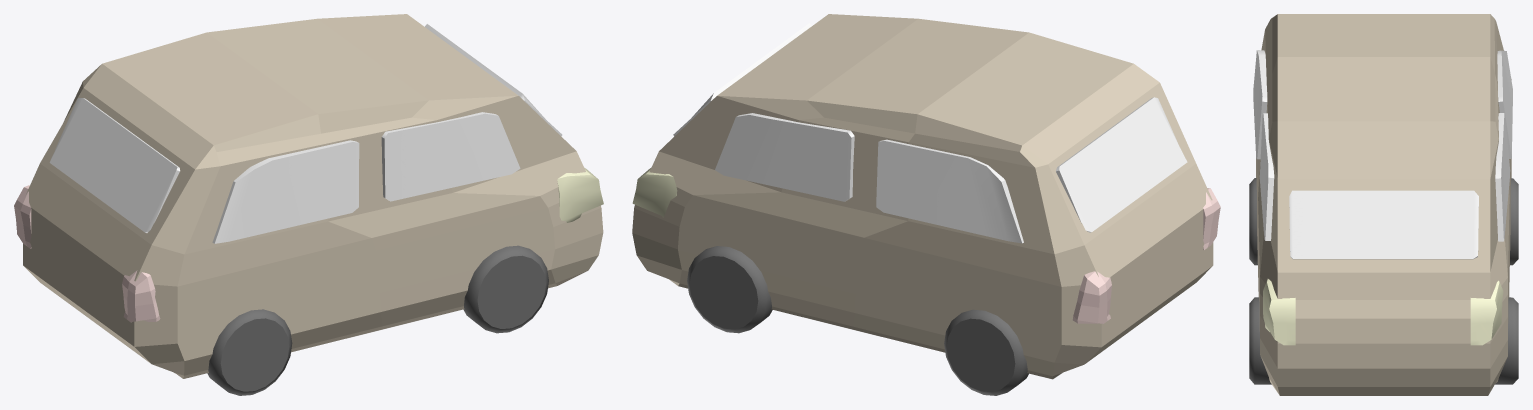
Rendered from CarroVeige.fbx.
The picture shows the model from 3 angles, left to right: view 1: azimuth 30°, elevation 25°; view 2: azimuth 150°, elevation 25°; view 3: azimuth 270°, elevation 25°; orthographic projection. The views are drawn at different scales.
Parts seen in each view (by area): view 1: pCube1, pCube7, pCube10, pCube8, pCylinder1, pCylinder2, pCube11, pCube9, pCube6; view 2: pCube1, pCube4, pCube10, pCube12, pCylinder3, pCylinder4, pCube11, pCube9, pCube6; view 3: pCube1, pCube6, pCube9, pCube12, pCube8, pCube4, pCube7, pCylinder1, pCylinder3, pCylinder4, pCylinder2.
Part boxes in pixels (left/top/right/bottom): pCube1: left=23, top=14, right=603, bottom=378; pCube7: left=212, top=140, right=359, bottom=243; pCube10: left=49, top=98, right=180, bottom=232; pCube8: left=381, top=112, right=520, bottom=201; pCylinder1: left=463, top=245, right=548, bottom=333; pCylinder2: left=207, top=309, right=292, bottom=395; pCube11: left=14, top=185, right=160, bottom=322; pCube9: left=557, top=168, right=603, bottom=222; pCube6: left=425, top=24, right=562, bottom=136; pCube1: left=632, top=14, right=1213, bottom=379; pCube4: left=876, top=139, right=1023, bottom=243; pCube10: left=1056, top=97, right=1187, bottom=232; pCube12: left=715, top=113, right=854, bottom=201; pCylinder3: left=687, top=246, right=772, bottom=333; pCylinder4: left=944, top=309, right=1028, bottom=395; pCube11: left=1072, top=188, right=1220, bottom=323; pCube9: left=632, top=168, right=677, bottom=217; pCube6: left=673, top=23, right=811, bottom=136; pCube1: left=1256, top=14, right=1511, bottom=395; pCube6: left=1289, top=190, right=1478, bottom=259; pCube9: left=1263, top=279, right=1503, bottom=345; pCube12: left=1495, top=113, right=1510, bottom=241; pCube8: left=1259, top=113, right=1274, bottom=240; pCube4: left=1497, top=50, right=1512, bottom=158; pCube7: left=1253, top=50, right=1267, bottom=159; pCylinder1: left=1249, top=297, right=1271, bottom=384; pCylinder3: left=1495, top=297, right=1518, bottom=384; pCylinder4: left=1510, top=178, right=1518, bottom=265; pCylinder2: left=1249, top=178, right=1257, bottom=265.
Size of the model in its own units: 21.46 by 10.94 by 11.09.
